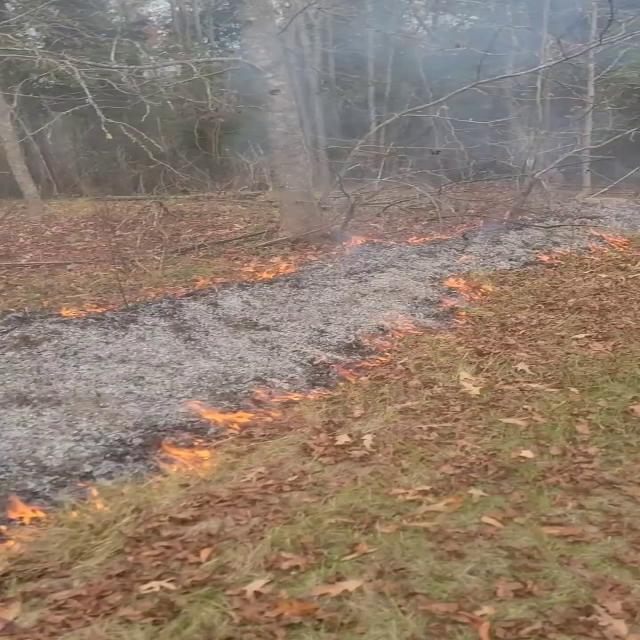Smoke: (218, 0, 626, 179)
